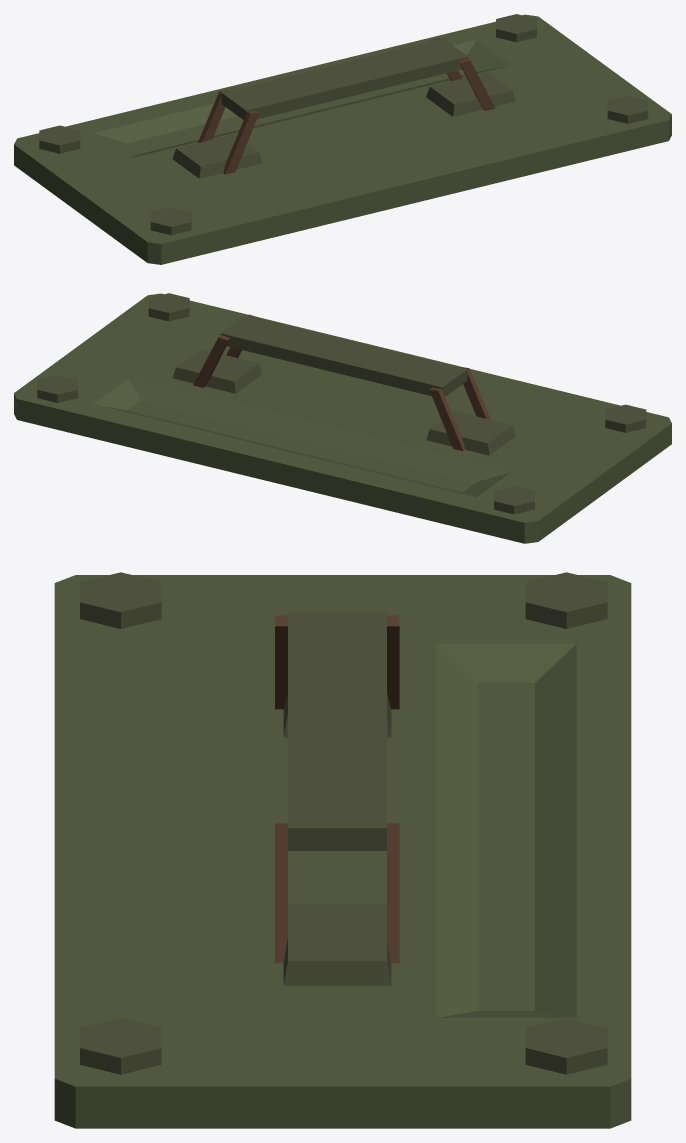
Rendered from SM_Prop_AmmoBox_03_Lid.glb.
3 renders of one model, top to bottom at view 1: azimuth 30°, elevation 25°; view 2: azimuth 150°, elevation 25°; view 3: azimuth 270°, elevation 25°, orthographic. The views are drawn at different scales.
Parts seen in each view (by area): view 1: SM_Prop_AmmoBox_03_Lid; view 2: SM_Prop_AmmoBox_03_Lid; view 3: SM_Prop_AmmoBox_03_Lid.
Part boxes in pixels (box(x1,y1,x2,y2)): SM_Prop_AmmoBox_03_Lid: box(14, 14, 671, 264); SM_Prop_AmmoBox_03_Lid: box(14, 293, 671, 543); SM_Prop_AmmoBox_03_Lid: box(54, 572, 631, 1128).
Size of the model in its own units: 0.5145 by 0.0718 by 0.2449.
Materials: 1 (1 with a texture image).
